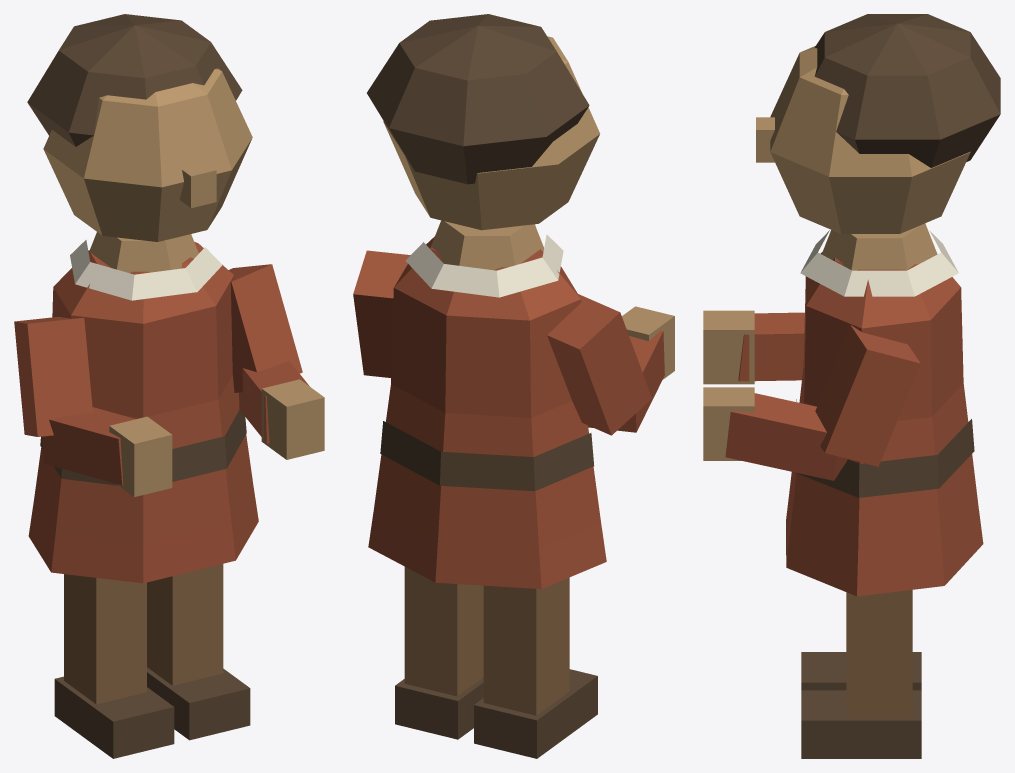
File: villager.glb
The picture shows the model from 3 angles, left to right: view 1: azimuth 30°, elevation 25°; view 2: azimuth 150°, elevation 25°; view 3: azimuth 270°, elevation 25°; orthographic projection. The views are drawn at different scales.
Parts seen in each view (by area): view 1: body, head; view 2: body, head; view 3: body, head.
Boxes of the visible parts, left/top/right/bottom form: body: left=14, top=232, right=324, bottom=758; head: left=27, top=14, right=252, bottom=241; body: left=353, top=220, right=674, bottom=758; head: left=367, top=14, right=600, bottom=230; body: left=703, top=223, right=983, bottom=758; head: left=756, top=14, right=1000, bottom=233.
Bounding box in the file's own units: 1.04 × 2.57 × 0.9868.
Materials: 1 (1 with a texture image).
